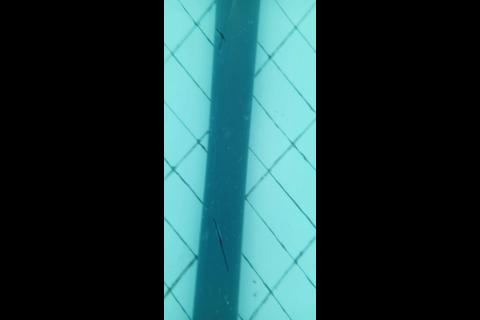keretakan: (212, 217, 230, 274), (217, 18, 227, 58)
